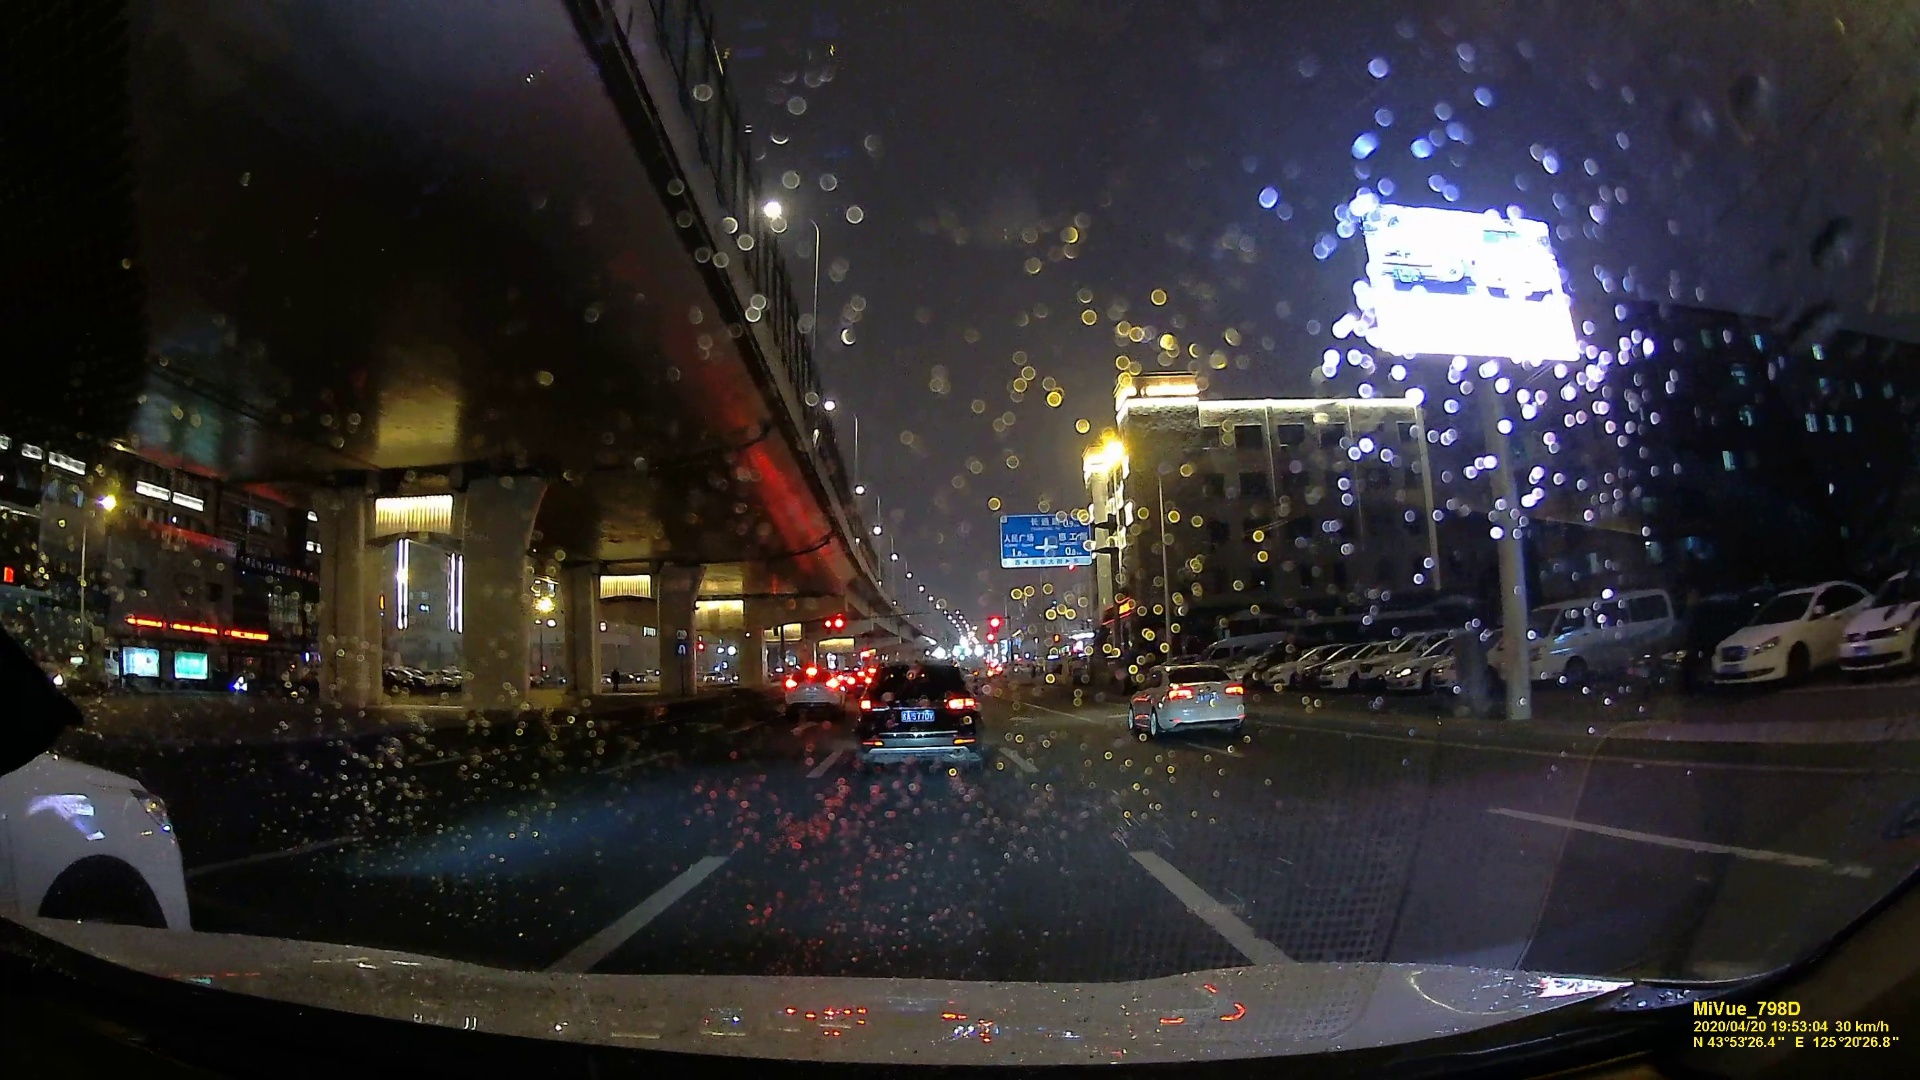traffic_sign: (1001, 516, 1093, 564)
vehicle: (855, 665, 982, 771), (1127, 667, 1245, 740), (786, 667, 847, 712)
